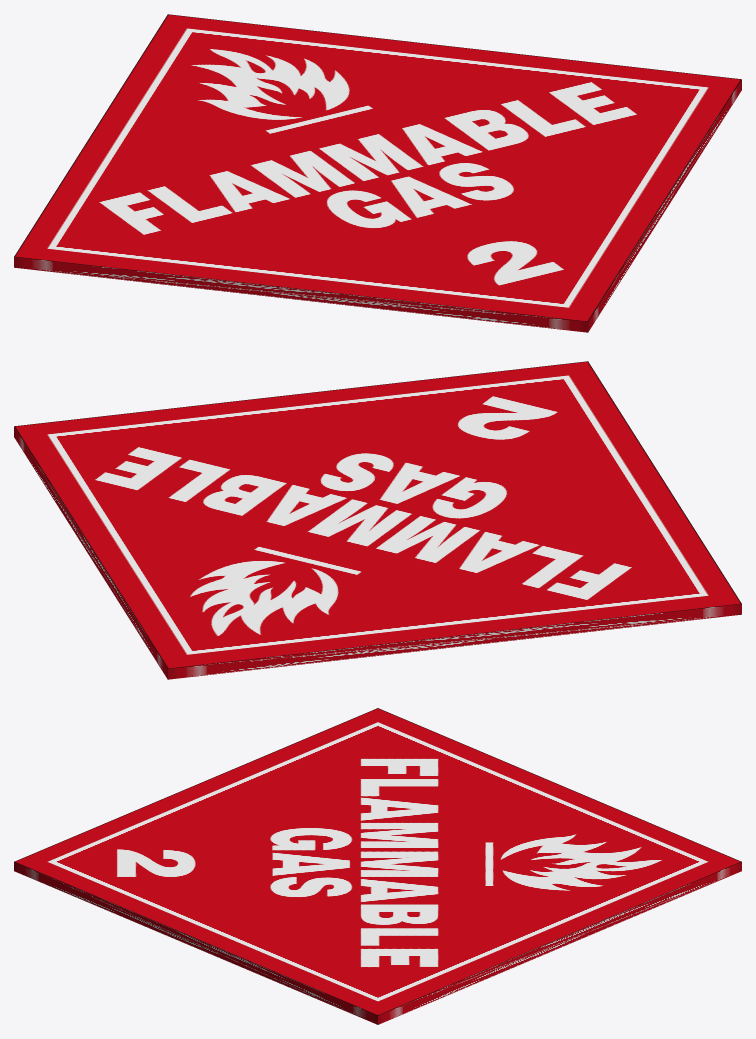
File: hazmat_flammable-gas.dae
3 renders of one model, top to bottom at view 1: azimuth 30°, elevation 25°; view 2: azimuth 150°, elevation 25°; view 3: azimuth 270°, elevation 25°, orthographic. The views are drawn at different scales.
Parts seen in each view (by area): view 1: Sign_Material.009; view 2: Sign_Material.009; view 3: Sign_Material.009.
Boxes of the visible parts, x1,y1,x2,y2 form: Sign_Material.009: [14, 14, 741, 332]; Sign_Material.009: [14, 361, 741, 679]; Sign_Material.009: [14, 708, 741, 1024].
Size of the model in its own units: 0.1485 by 0.1485 by 0.0021.
1 material, 1 textured.
